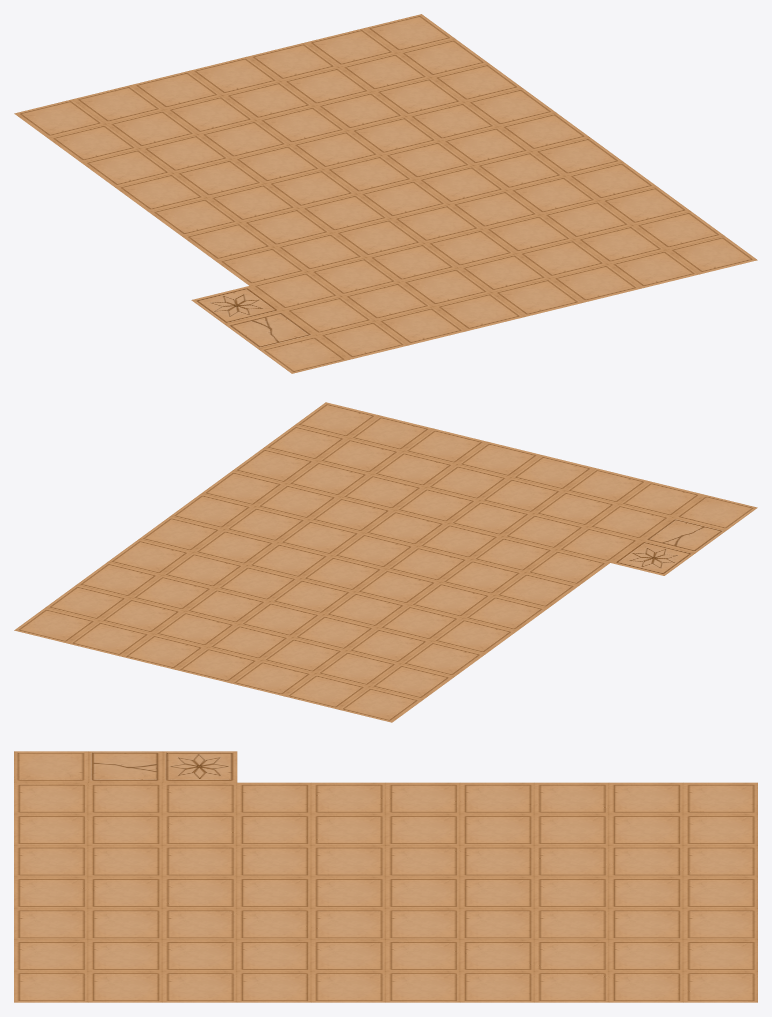
File: Floor.fbx
3 views of the same model, one above another, from view 1: azimuth 30°, elevation 25°; view 2: azimuth 150°, elevation 25°; view 3: azimuth 270°, elevation 25° (orthographic). The views are drawn at different scales.
Visible parts, largest first — view 1: Floor_4x10, Floor_2x10, Floor_1x10, Floor3_1x1, Floor2_1x1, Floor_1x1; view 2: Floor_4x10, Floor_2x10, Floor_1x10, Floor2_1x1, Floor3_1x1, Floor_1x1; view 3: Floor_4x10, Floor_2x10, Floor_1x10, Floor3_1x1, Floor2_1x1, Floor_1x1.
Boxes of the visible parts, <box> form: Floor_4x10: <box>189,14,757,316</box>; Floor_2x10: <box>72,71,524,345</box>; Floor_1x10: <box>14,99,408,359</box>; Floor3_1x1: <box>191,286,282,324</box>; Floor2_1x1: <box>225,310,315,349</box>; Floor_1x1: <box>259,335,349,373</box>; Floor_4x10: <box>14,402,541,682</box>; Floor_2x10: <box>230,455,649,709</box>; Floor_1x10: <box>338,481,703,722</box>; Floor2_1x1: <box>642,517,726,553</box>; Floor3_1x1: <box>611,540,694,575</box>; Floor_1x1: <box>673,494,757,530</box>; Floor_4x10: <box>14,877,757,1002</box>; Floor_2x10: <box>14,814,757,876</box>; Floor_1x10: <box>14,782,757,813</box>; Floor3_1x1: <box>162,751,237,782</box>; Floor2_1x1: <box>88,751,162,782</box>; Floor_1x1: <box>14,751,88,782</box>.
Size of the model in its own units: 800 by 7.55e-05 by 1000.
